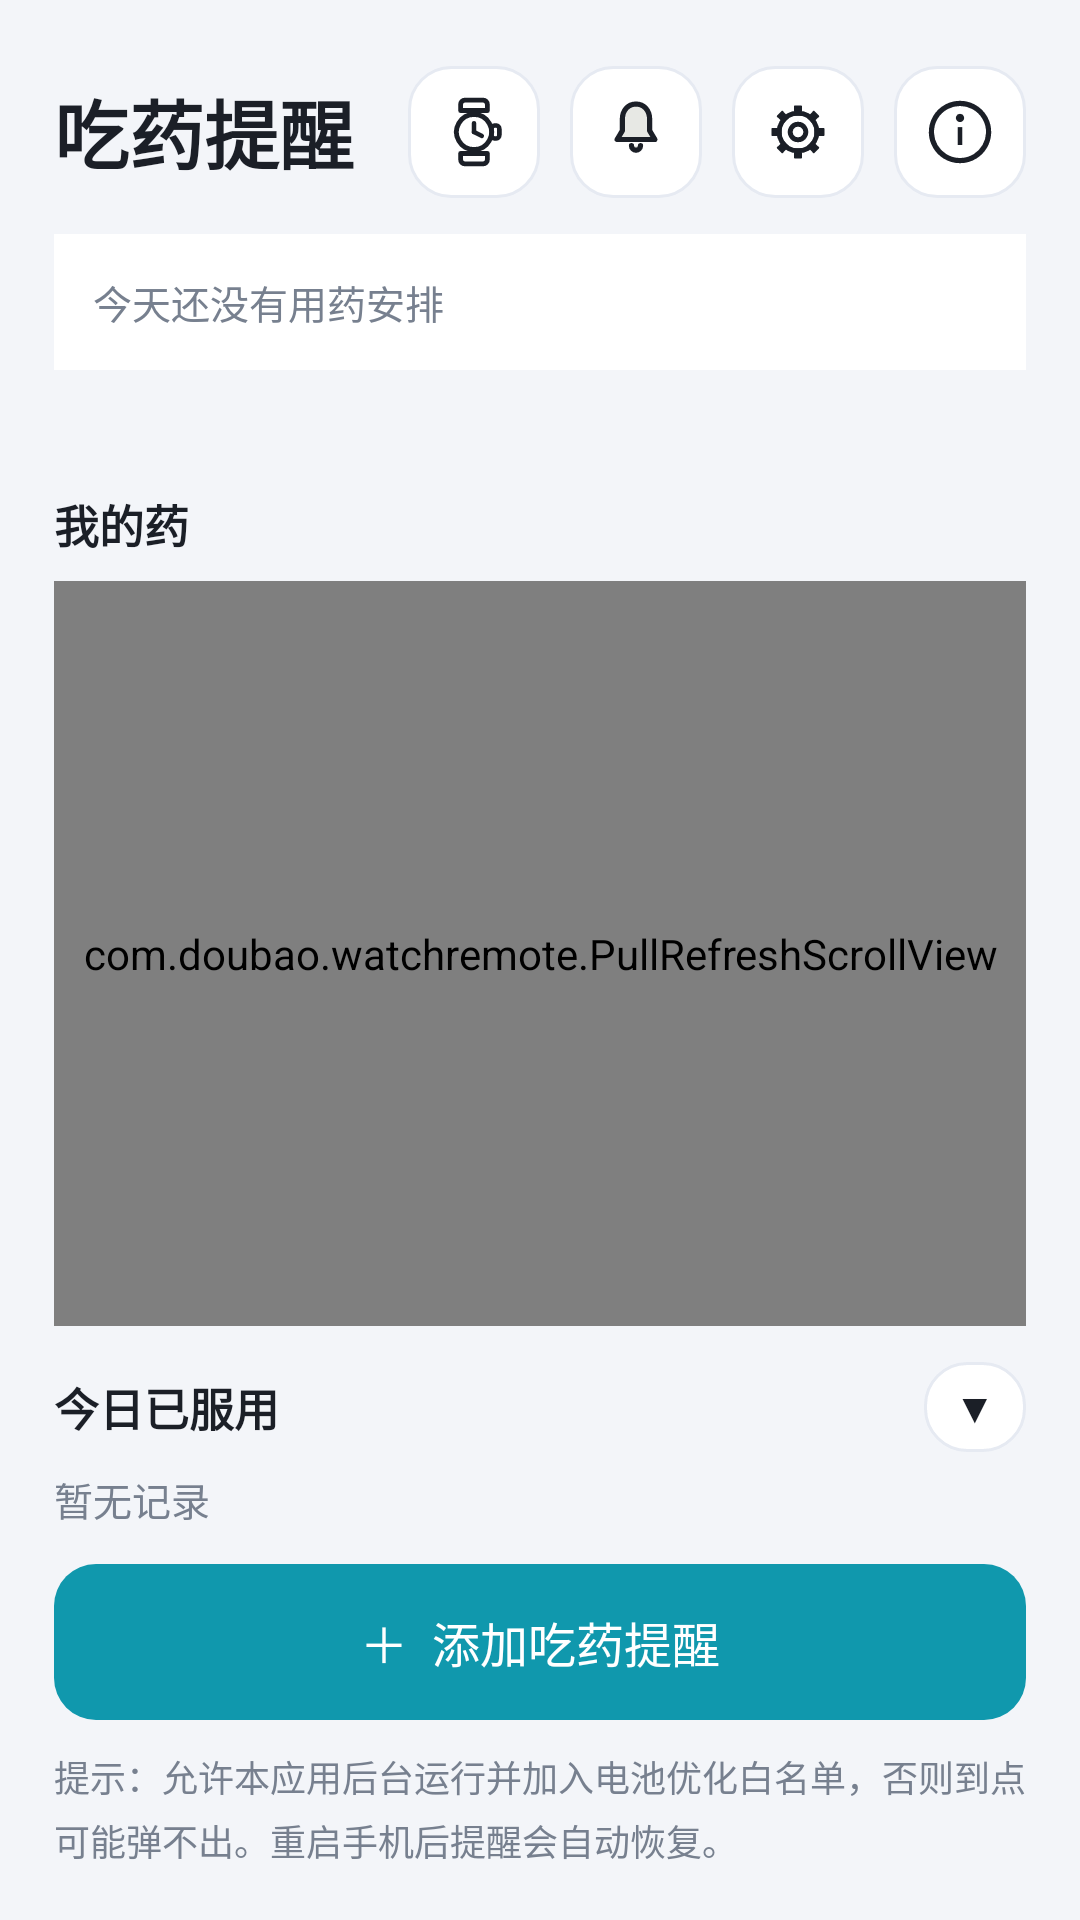

Screen size 1080w x 1920h. Icon name, then its box in pixels as (x1, y1, x2, y2):
bell line: (570, 66, 702, 198)
gear line: (732, 66, 864, 198)
info line: (894, 66, 1026, 198)
watch line: (408, 66, 540, 198)
